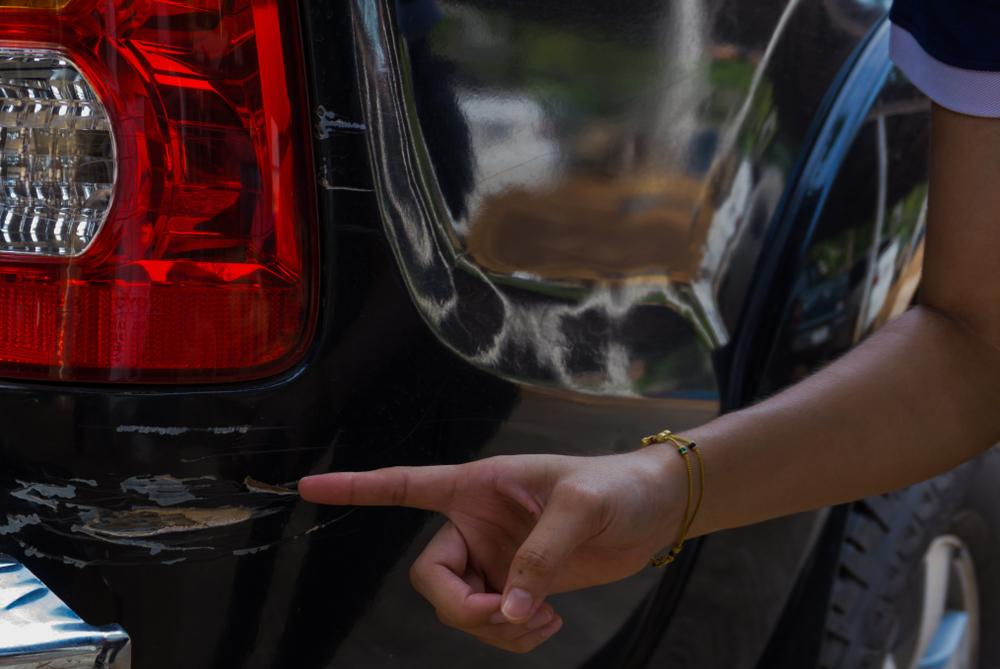scratch: (0, 412, 340, 582)
